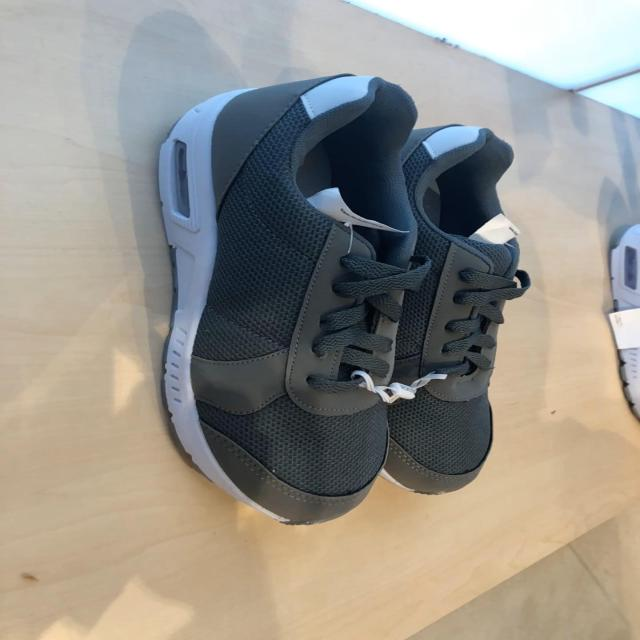shoe: (158, 75, 499, 528), (356, 210, 530, 495)
